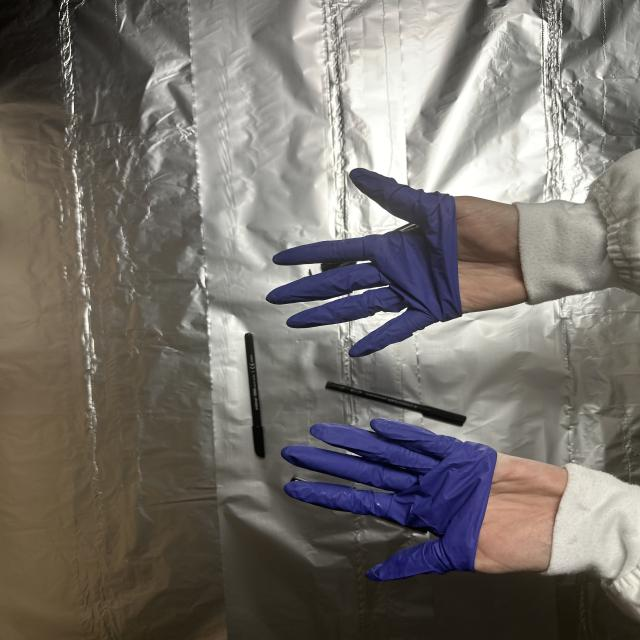glove_partial: (258, 166, 543, 360), (278, 418, 565, 586)
